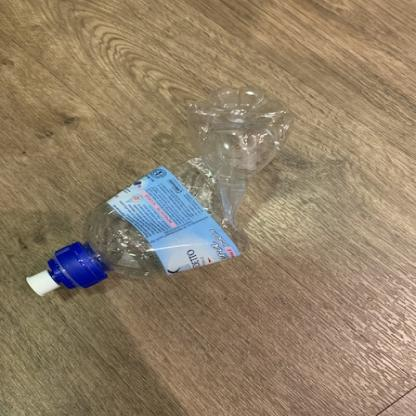trash: (21, 81, 300, 322)
